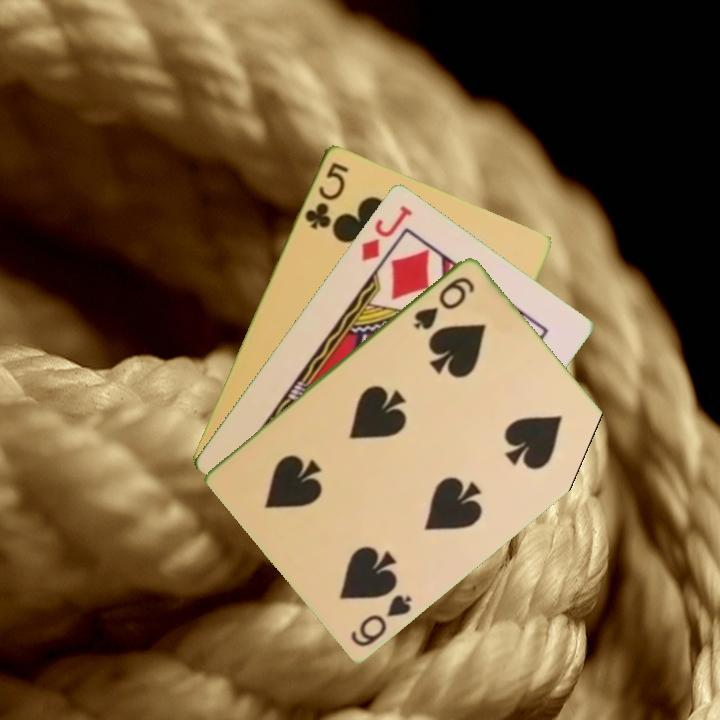5c: (300, 158, 351, 232)
6s: (410, 272, 478, 333), (347, 590, 415, 650)
Jd: (357, 200, 415, 264)
